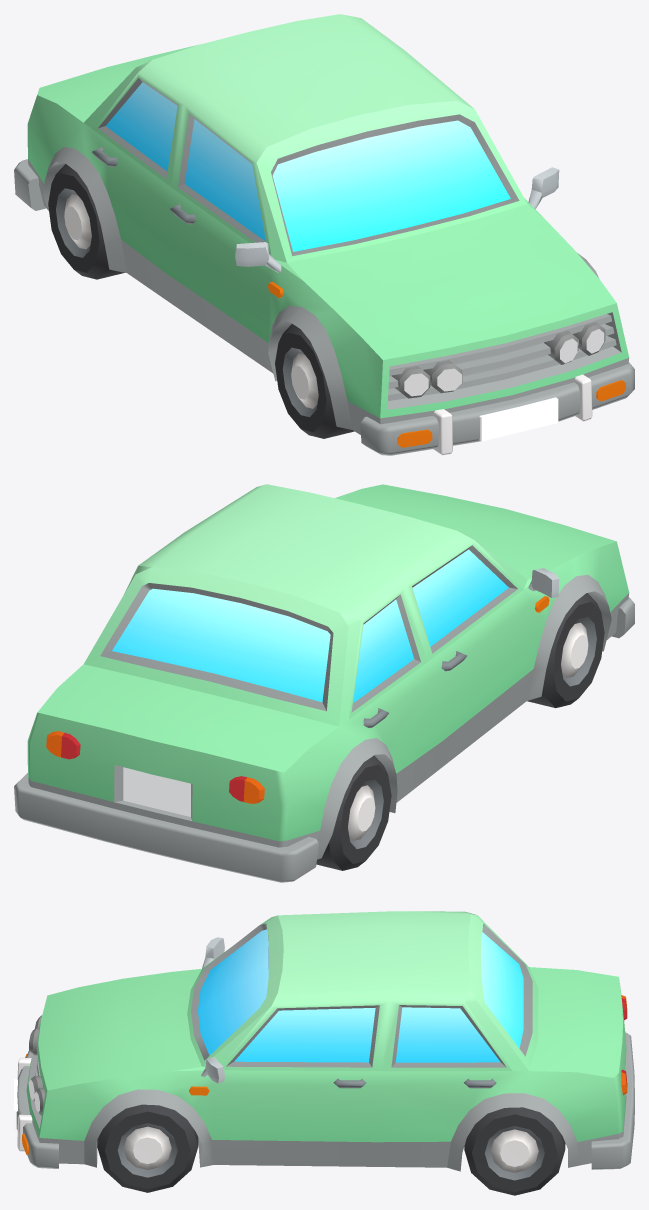
Rendered from city2-car-26.glb.
3 views of the same model, one above another, from view 1: azimuth 30°, elevation 25°; view 2: azimuth 150°, elevation 25°; view 3: azimuth 270°, elevation 25° (orthographic). The views are drawn at different scales.
Parts seen in each view (by area): view 1: Car_26, Wheel_141, Wheel_142; view 2: Car_26, Wheel_142, Wheel_141; view 3: Car_26, Wheel_143, Wheel_144.
Part boxes in pixels (left/top/right/bottom): Car_26: left=14, top=14, right=634, bottom=455; Wheel_141: left=275, top=324, right=354, bottom=438; Wheel_142: left=48, top=164, right=124, bottom=279; Car_26: left=14, top=484, right=634, bottom=882; Wheel_142: left=316, top=755, right=391, bottom=870; Wheel_141: left=527, top=593, right=604, bottom=708; Car_26: left=14, top=911, right=634, bottom=1171; Wheel_143: left=97, top=1104, right=198, bottom=1192; Wheel_144: left=464, top=1107, right=565, bottom=1195.
Bounding box in the file's own units: 2.62 × 1.8 × 5.22.
Materials: 2 (2 with a texture image).
